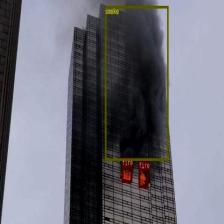fire: (138, 168, 148, 187), (121, 166, 132, 182)
smoke: (105, 6, 168, 160)
